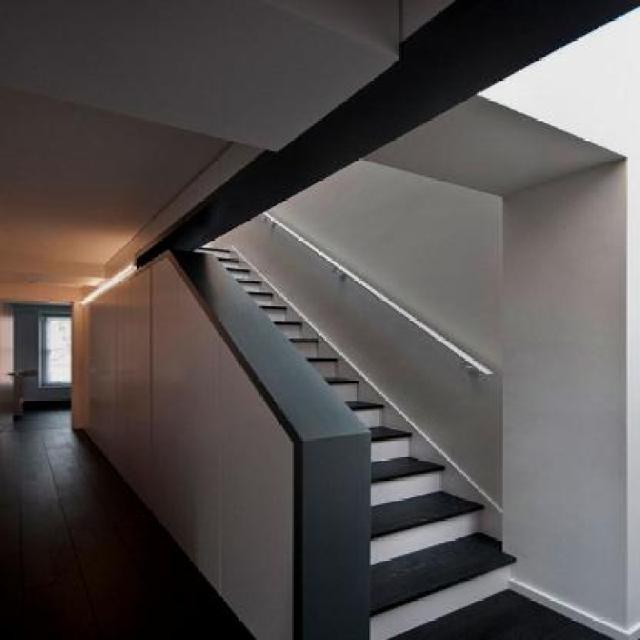stair: (156, 163, 550, 639)
